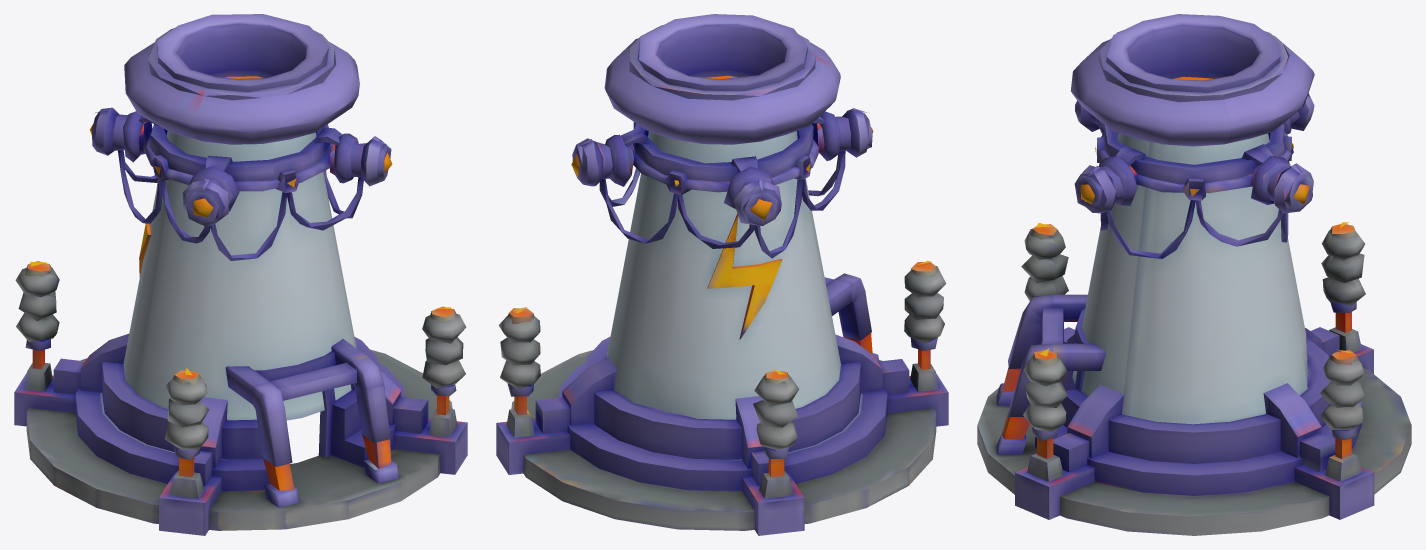
The picture shows the model from 3 angles, left to right: view 1: azimuth 30°, elevation 25°; view 2: azimuth 150°, elevation 25°; view 3: azimuth 270°, elevation 25°; orthographic projection.
Parts seen in each view (by area): view 1: 电塔1; view 2: 电塔1; view 3: 电塔1.
Boxes of the visible parts, box(x1,y1,x2,y2) form: 电塔1: box(14, 14, 467, 535); 电塔1: box(496, 14, 948, 535); 电塔1: box(977, 14, 1411, 535).
Size of the model in its own units: 3.01 by 3.02 by 3.01.
1 material, 1 textured.
